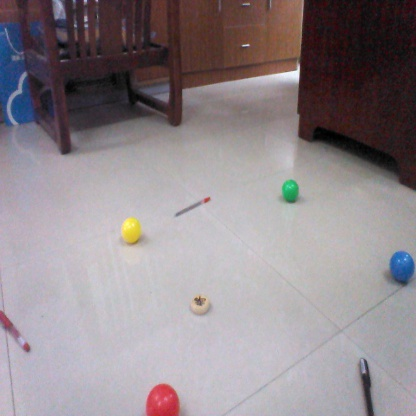ball: (146, 382, 181, 416), (389, 249, 415, 284), (281, 176, 300, 204), (124, 215, 144, 234)
chess: (188, 292, 215, 314)
pen: (1, 312, 31, 352), (358, 356, 375, 415), (175, 199, 213, 219)
